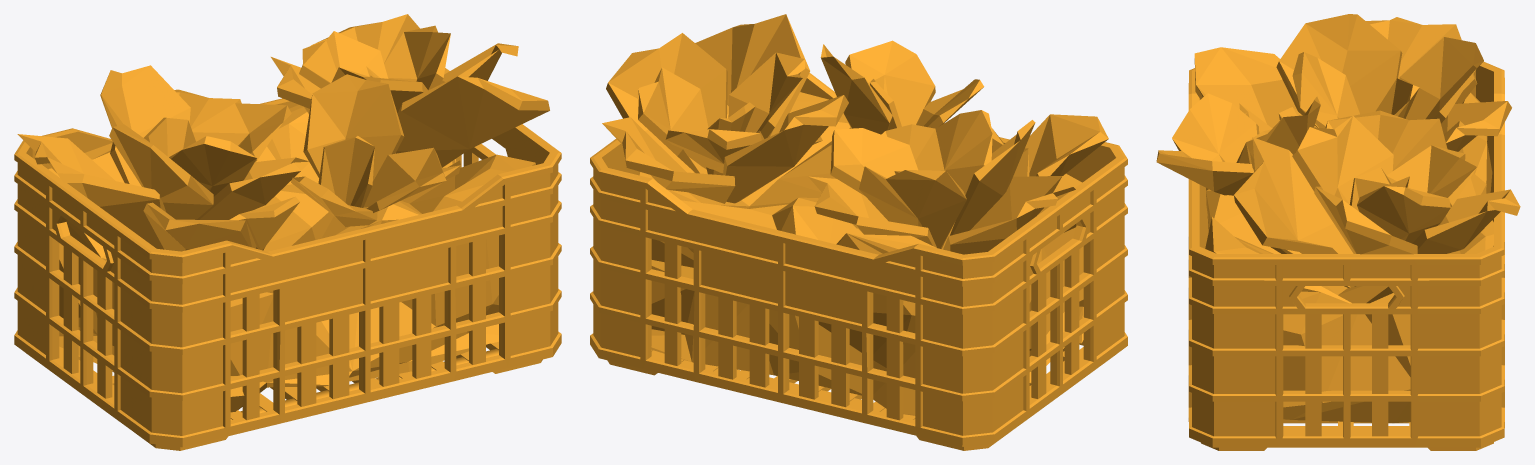
The model's file is SM_Crate_Plastic_Medium_Salad.fbx.
3 renders of one model, left to right at view 1: azimuth 30°, elevation 25°; view 2: azimuth 150°, elevation 25°; view 3: azimuth 270°, elevation 25°, orthographic.
Parts seen in each view (by area): view 1: crate-plastic-medium-salad; view 2: crate-plastic-medium-salad; view 3: crate-plastic-medium-salad.
Boxes of the visible parts, x1,y1,x2,y2 form: crate-plastic-medium-salad: (14,14,561,450); crate-plastic-medium-salad: (590,14,1127,450); crate-plastic-medium-salad: (1156,14,1520,450).
Size of the model in its own units: 0.685 by 0.3969 by 0.4699.
